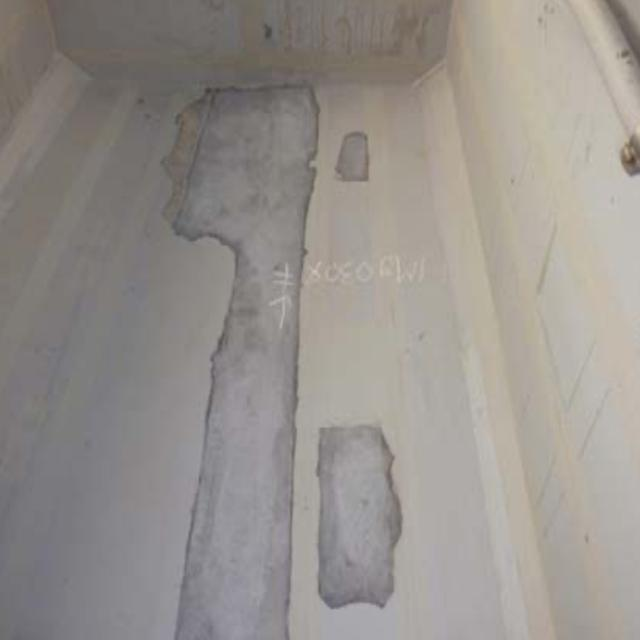spalling: (128, 74, 412, 640)
